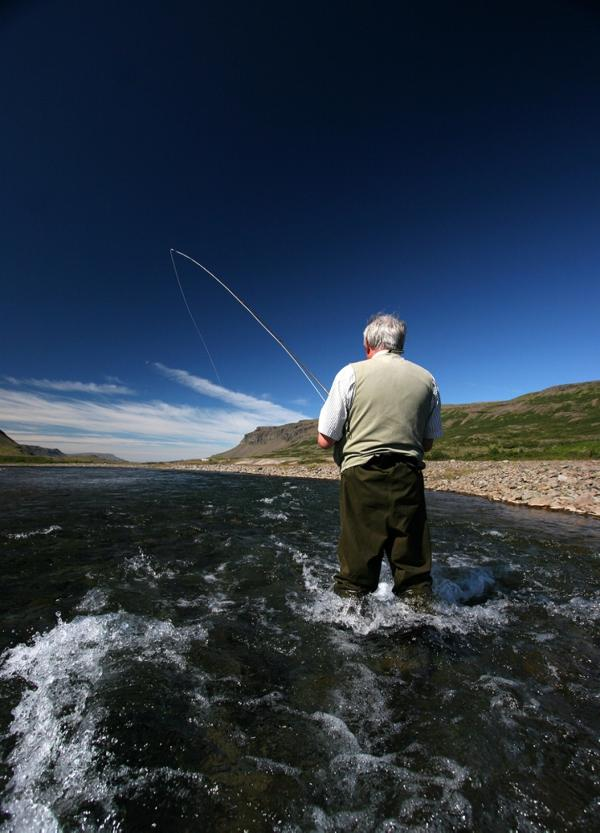person: (318, 316, 444, 588)
